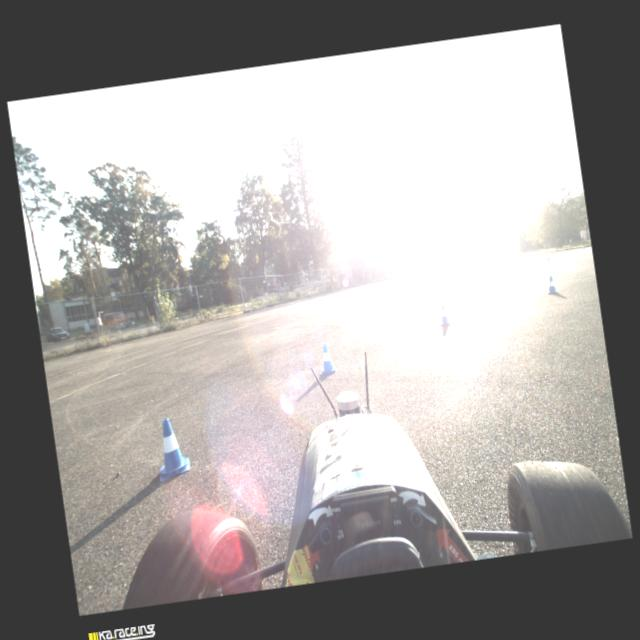blue_cone: (152, 416, 192, 482), (316, 342, 338, 376), (438, 304, 450, 326), (546, 276, 558, 294), (546, 254, 550, 260), (583, 244, 586, 249), (534, 252, 536, 258), (561, 249, 563, 252)
yellow_cone: (540, 252, 544, 258), (581, 245, 584, 250), (552, 250, 554, 256)
